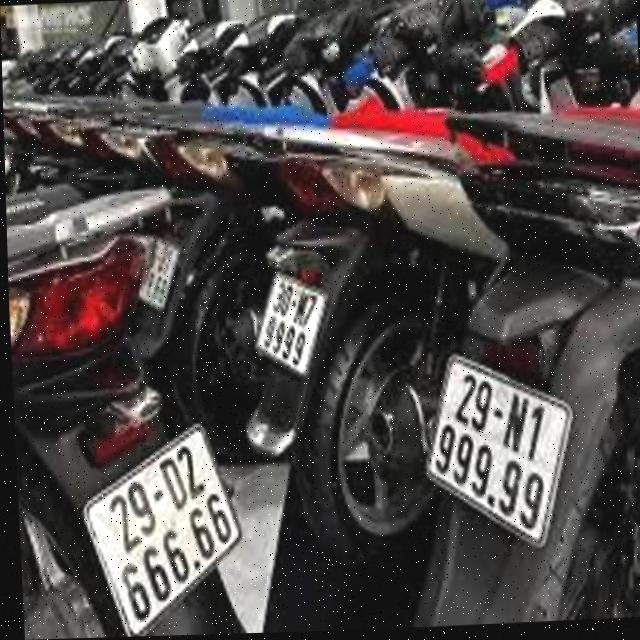motorcycle: (394, 0, 640, 626), (2, 50, 251, 640), (225, 51, 453, 566)
plate: (78, 410, 254, 638), (415, 337, 578, 552), (248, 256, 335, 383)
